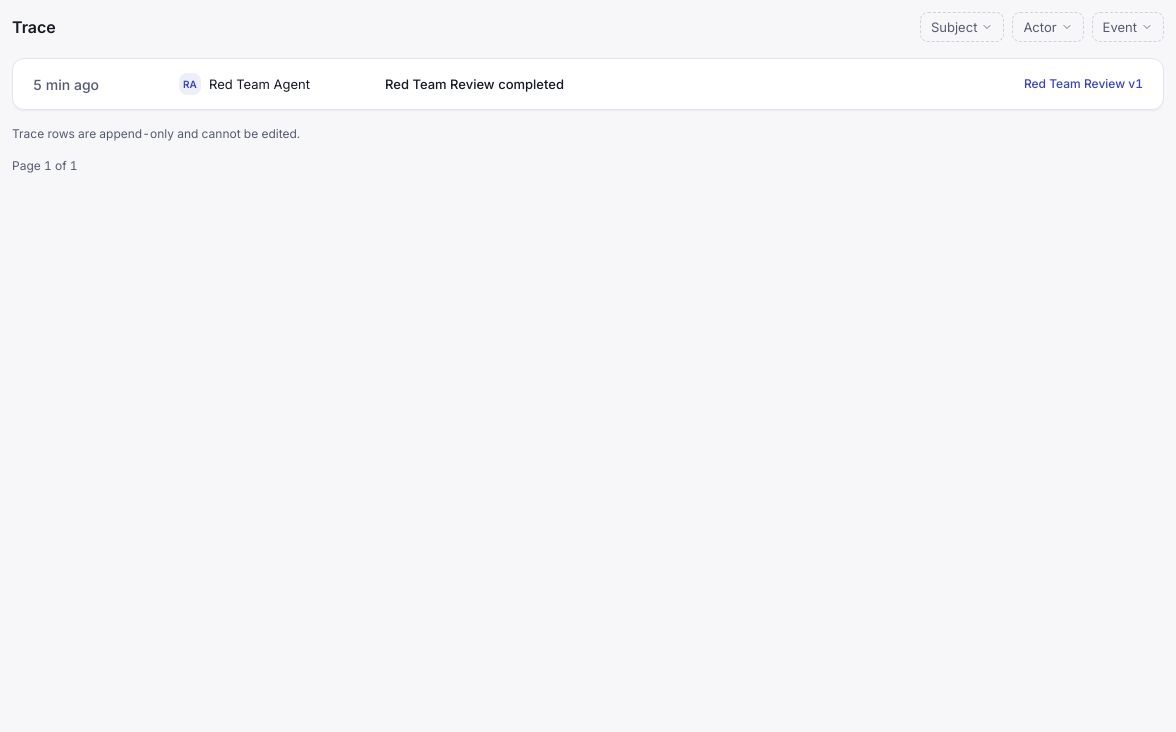
the inspector › shows an agent with its version; a click opens without moving focus
Click the button "5 min ago RA Red Team Agent Red Team Review completed" at (485, 84), box [33,59,937,109]
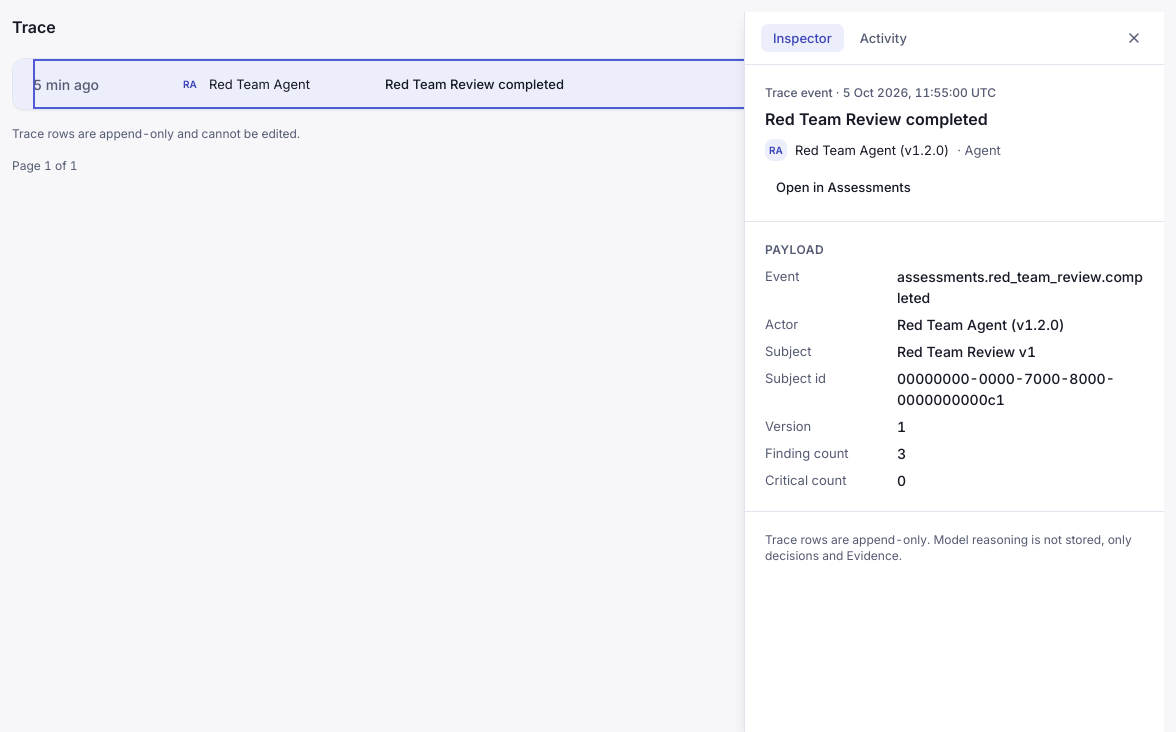
Now the heading "Red Team Review completed" is shown, box [765,107,988,131]
Now the text "Red Team Agent (v1.2.0)" is shown 2 times, box [795,140,949,160]; [897,316,1064,333]
Now the text "· Agent" is shown, box [957,140,1001,160]
